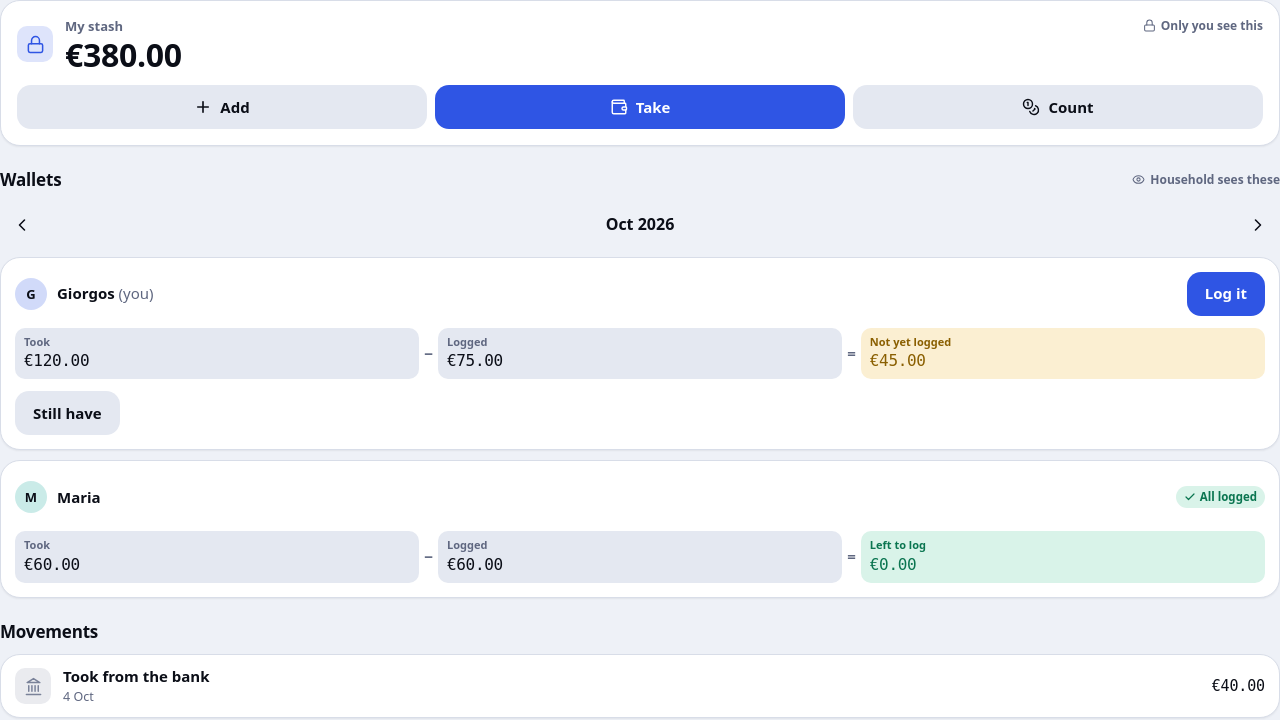
Scenario: a refused write invalidates nothing
Click the button "Took from the bank 4 Oct €40.00".
click(33, 686)  # box [1,656,1279,717]
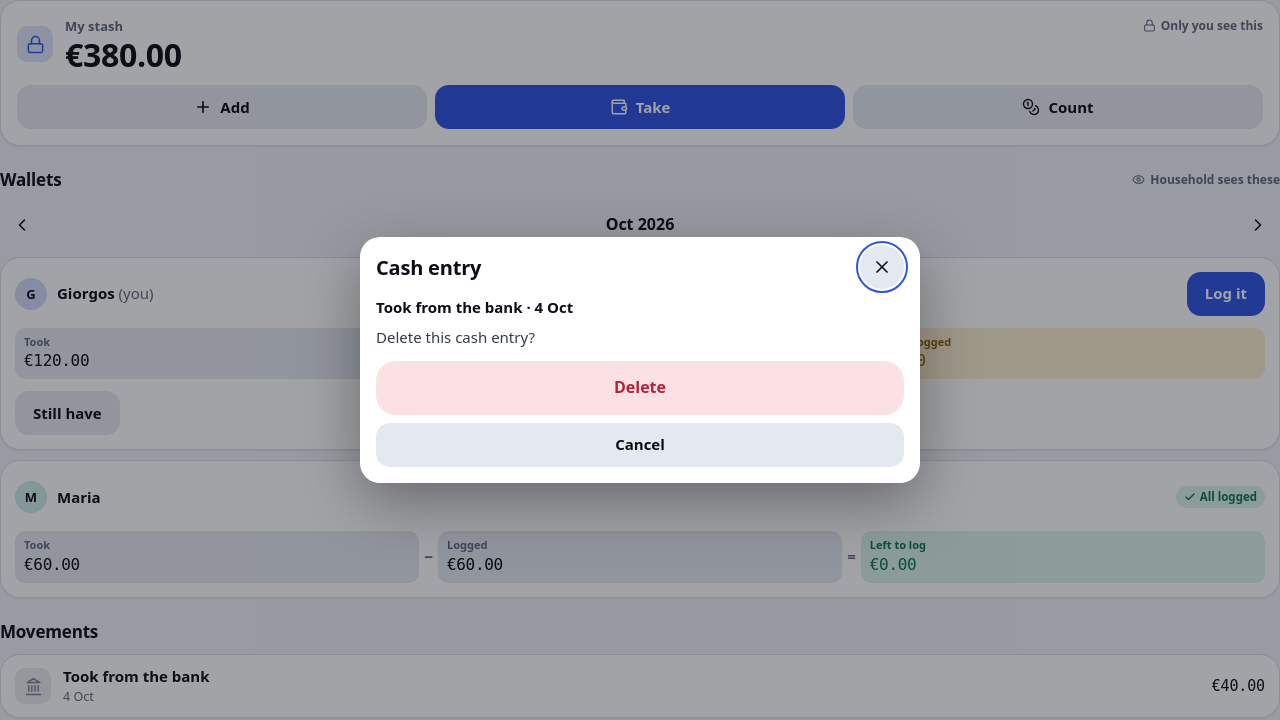
Click the button "Delete".
click(640, 388)  # box [376,361,904,415]
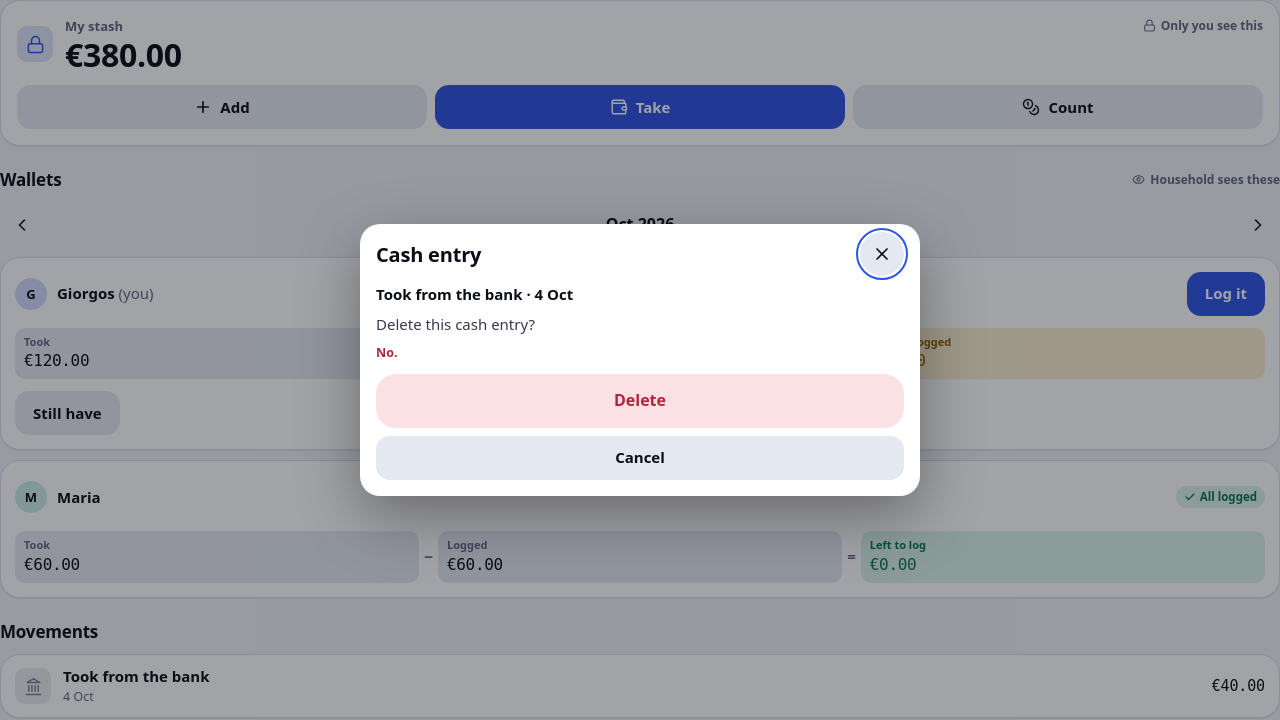
Check: the message "No." is shown, box [376,344,398,361]
